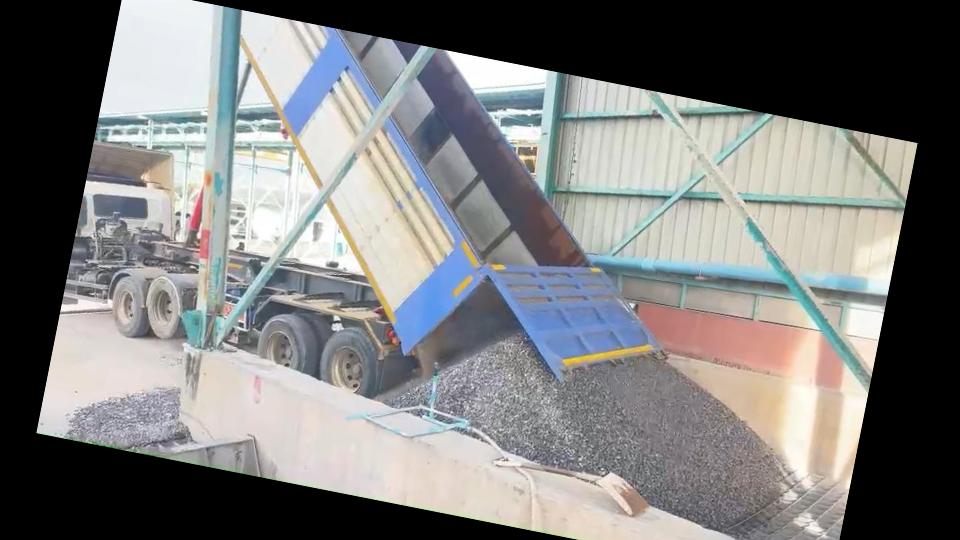gravel: (436, 334, 786, 529), (66, 387, 188, 448), (383, 382, 430, 407)
